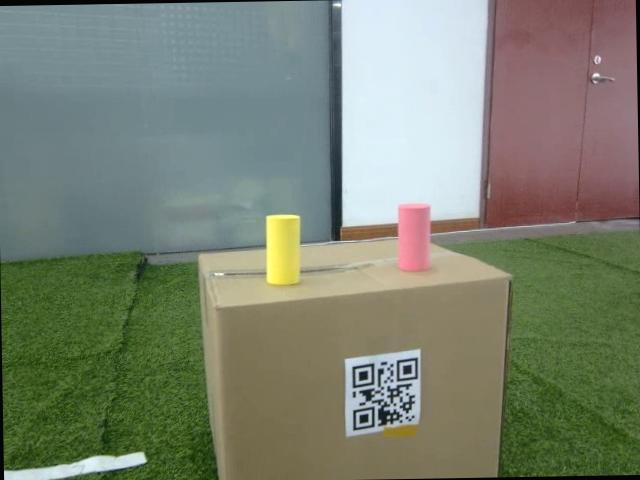red_cylinder: (396, 201, 435, 272)
yellow_cylinder: (262, 209, 304, 288)
